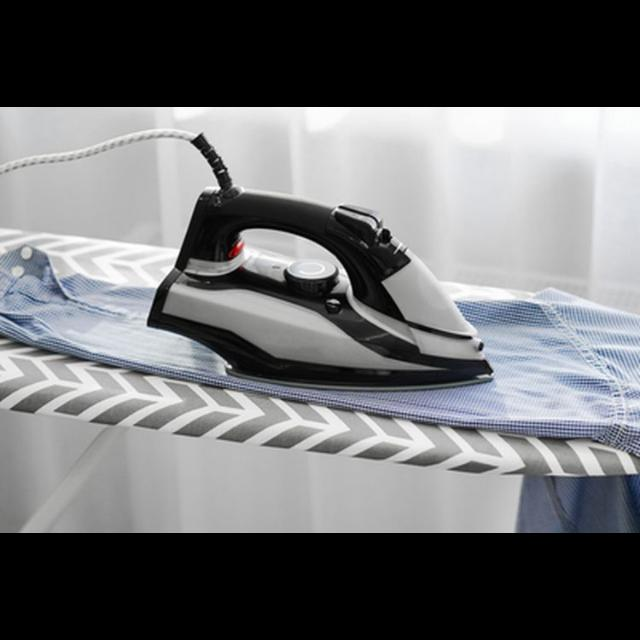Clothes-Iron: (200, 186, 488, 390)
